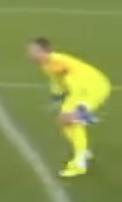goalkeeper: (14, 18, 122, 202)
